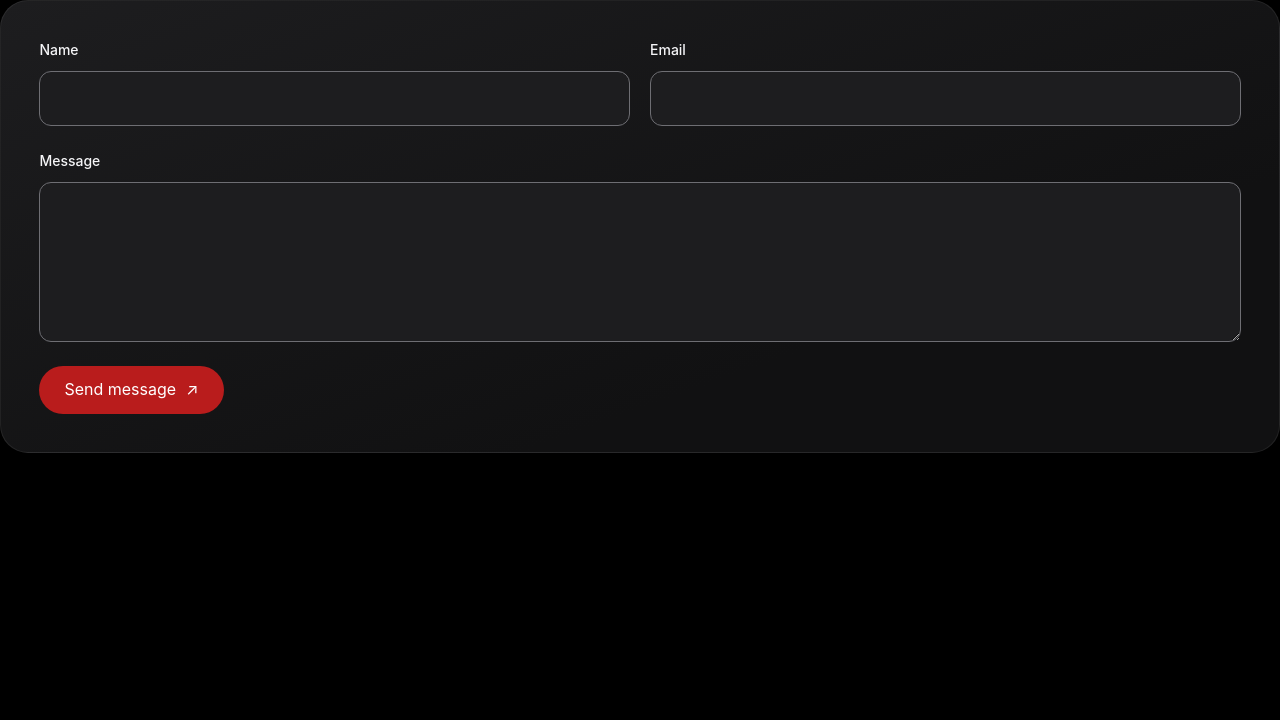
Test: Contact delivery › rejects empty fields before sending
This screenshot has width=1280, height=720.
Click the button "Send message ↗": click(131, 390) [39,366,224,414]
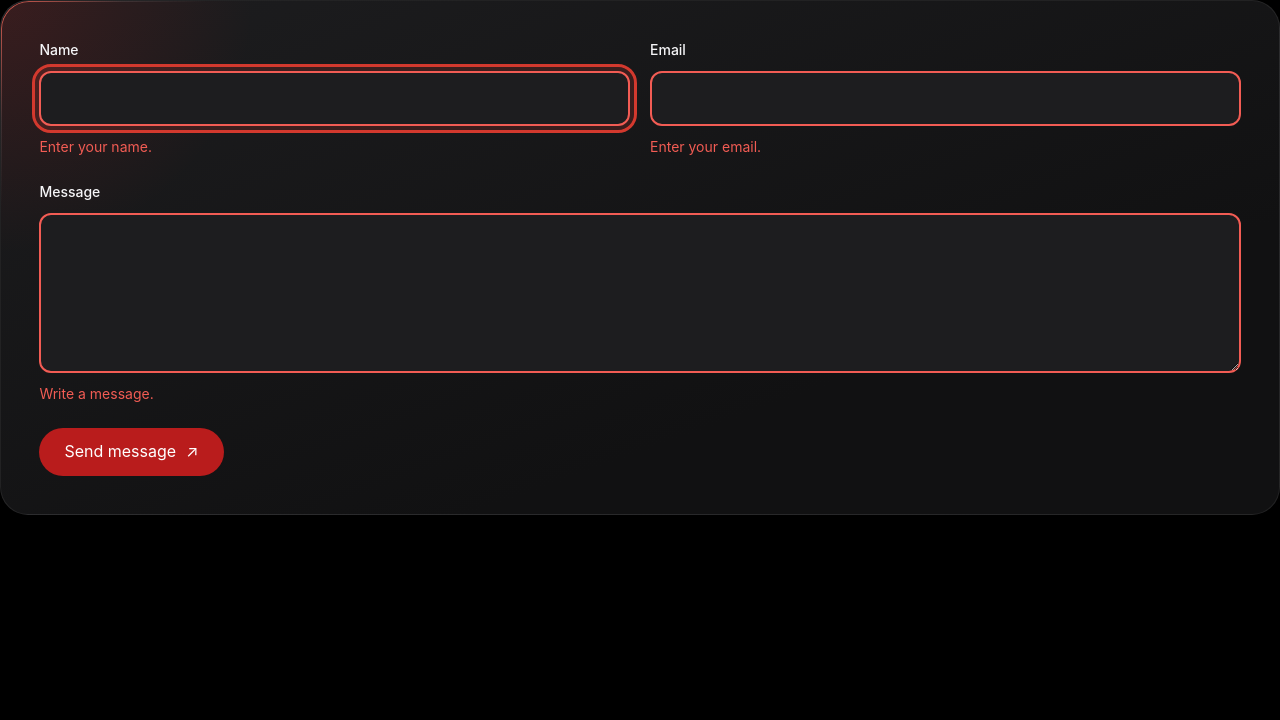
Expected: the text "Enter your name." is shown, [39,138,152,155]
Expected: the text "Enter your email." is shown, [650,138,761,155]
Expected: the text "Write a message." is shown, [39,385,154,402]
